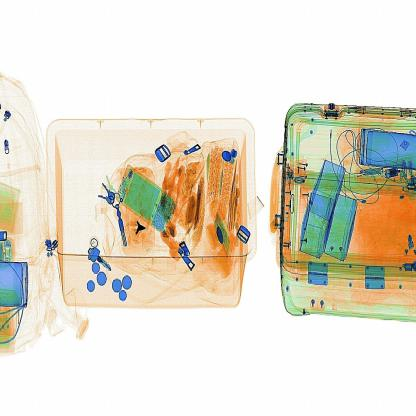gun: (125, 214, 150, 242)
